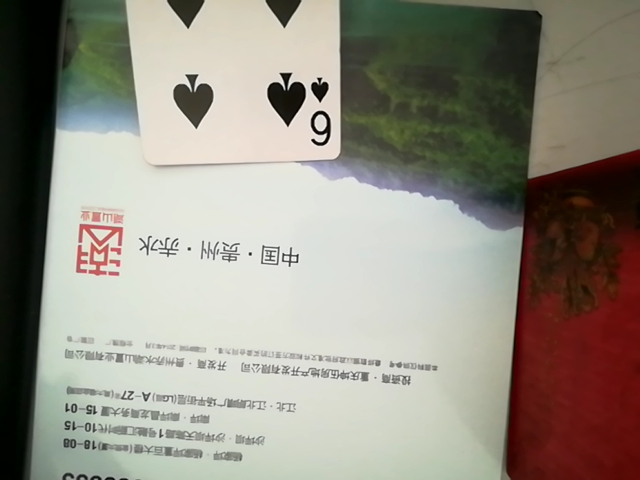ht 6: (119, 0, 357, 165)
